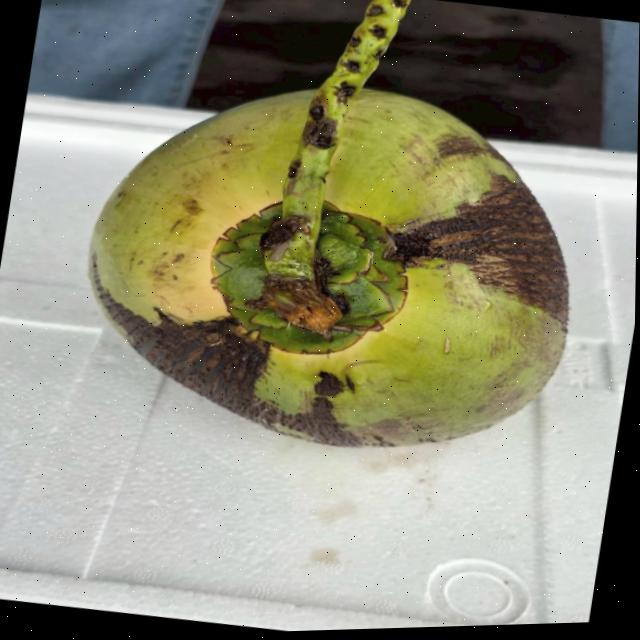coco_1.5: (144, 159, 456, 411)
